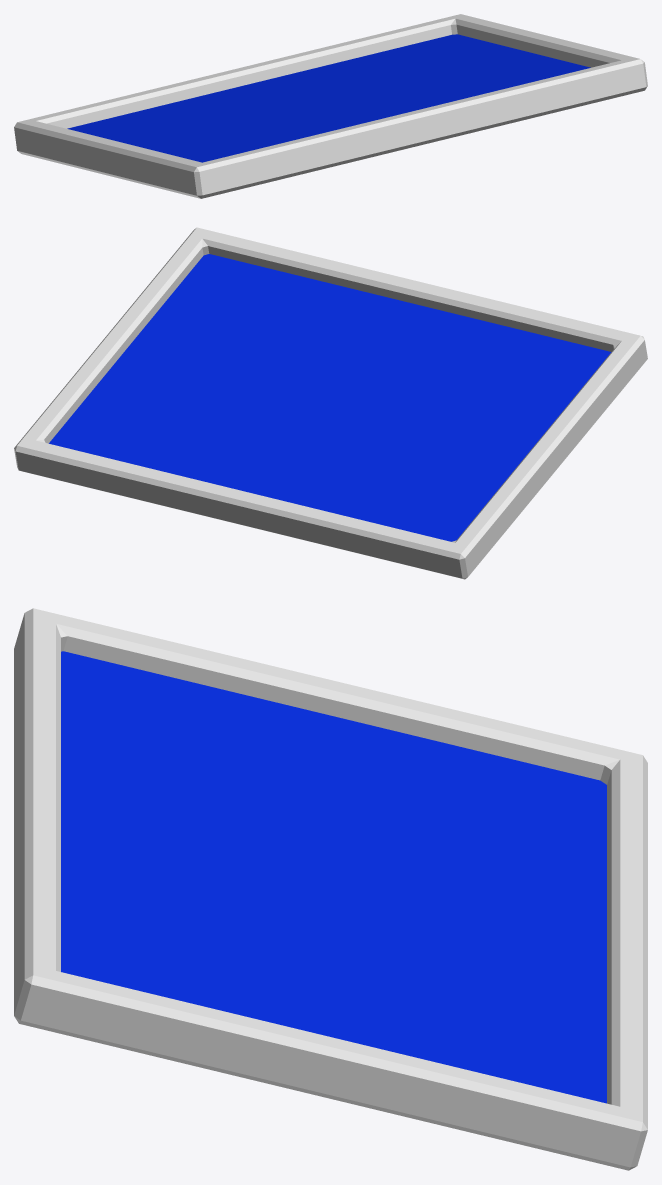
The model's file is ScreenOnly.fbx.
3 renders of one model, top to bottom at view 1: azimuth 30°, elevation 25°; view 2: azimuth 150°, elevation 25°; view 3: azimuth 270°, elevation 25°, orthographic. The views are drawn at different scales.
Visible parts, largest first — view 1: Screen; view 2: Screen; view 3: Screen.
Boxes of the visible parts, x1,y1,x2,y2 form: Screen: (14,14,647,198); Screen: (14,227,647,579); Screen: (14,608,647,1170).
Bounding box in the file's own units: 125 × 30.49 × 89.67.
